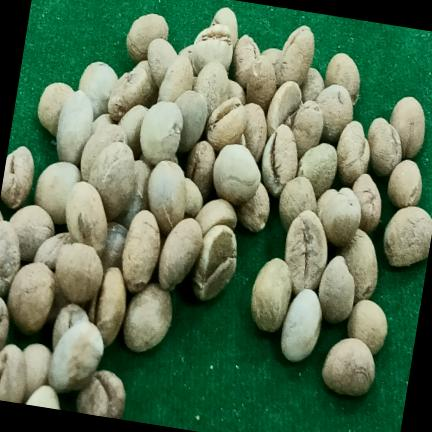good: (48, 321, 104, 393), (88, 142, 136, 221), (285, 210, 328, 295), (191, 225, 237, 301), (7, 263, 55, 335), (123, 283, 172, 352), (158, 218, 202, 290), (122, 210, 160, 293), (88, 267, 126, 348), (66, 181, 107, 256), (337, 229, 378, 304), (322, 338, 375, 396), (251, 258, 292, 332), (281, 289, 322, 362), (81, 116, 127, 181), (108, 61, 157, 122), (213, 144, 261, 206), (34, 162, 81, 225), (55, 243, 103, 304), (384, 206, 432, 267), (213, 144, 260, 206), (148, 161, 186, 235), (56, 90, 93, 165), (140, 101, 183, 165), (262, 125, 298, 198), (10, 205, 54, 262), (319, 256, 355, 324), (275, 26, 315, 87), (116, 160, 151, 229), (77, 370, 125, 419), (321, 188, 361, 246), (297, 143, 337, 199), (79, 62, 118, 119), (316, 84, 353, 144), (347, 300, 387, 355), (336, 121, 369, 187), (192, 24, 233, 77), (390, 97, 425, 159), (0, 146, 34, 209), (206, 98, 245, 152), (279, 177, 317, 232), (126, 14, 168, 63), (193, 61, 229, 118), (206, 98, 244, 152), (175, 90, 208, 152), (266, 81, 301, 139), (367, 118, 402, 176), (185, 141, 216, 204), (38, 82, 73, 137), (292, 100, 323, 160), (325, 53, 360, 105), (352, 173, 381, 234), (246, 56, 276, 114), (235, 183, 270, 232), (387, 160, 422, 209), (52, 304, 89, 350), (23, 344, 52, 401), (118, 105, 148, 160), (158, 55, 193, 102), (0, 344, 26, 404), (195, 199, 237, 236), (0, 221, 20, 297), (33, 233, 73, 271), (233, 35, 260, 89), (148, 38, 177, 88), (243, 103, 267, 163), (101, 222, 127, 272), (211, 7, 238, 48), (25, 386, 60, 410), (300, 68, 324, 103), (184, 178, 203, 218), (317, 189, 338, 223), (260, 48, 282, 71), (92, 113, 114, 134), (229, 80, 246, 105)
